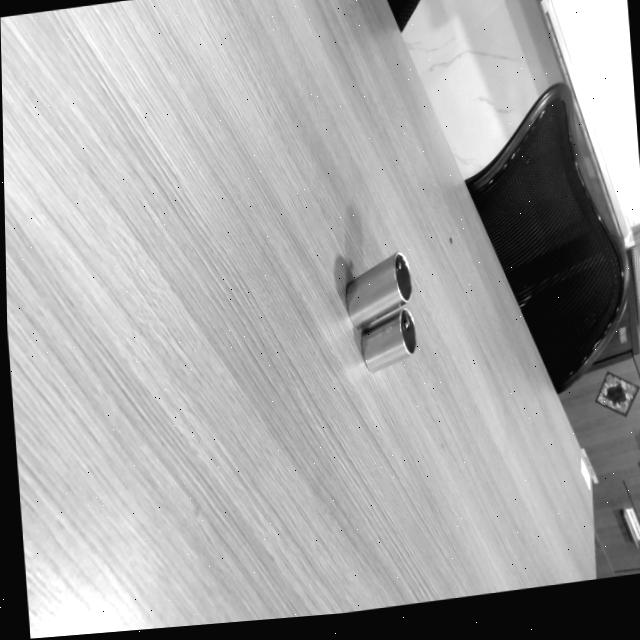Co_Lon: (333, 249, 426, 333)
Co_Nho: (351, 306, 427, 374)
